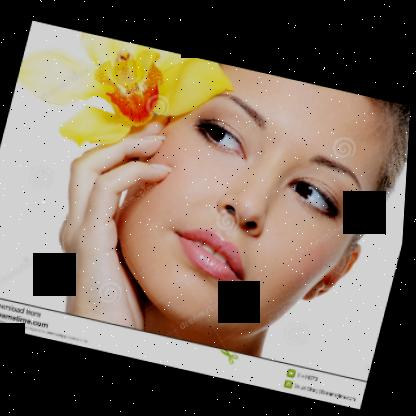Female: (97, 47, 402, 356)
